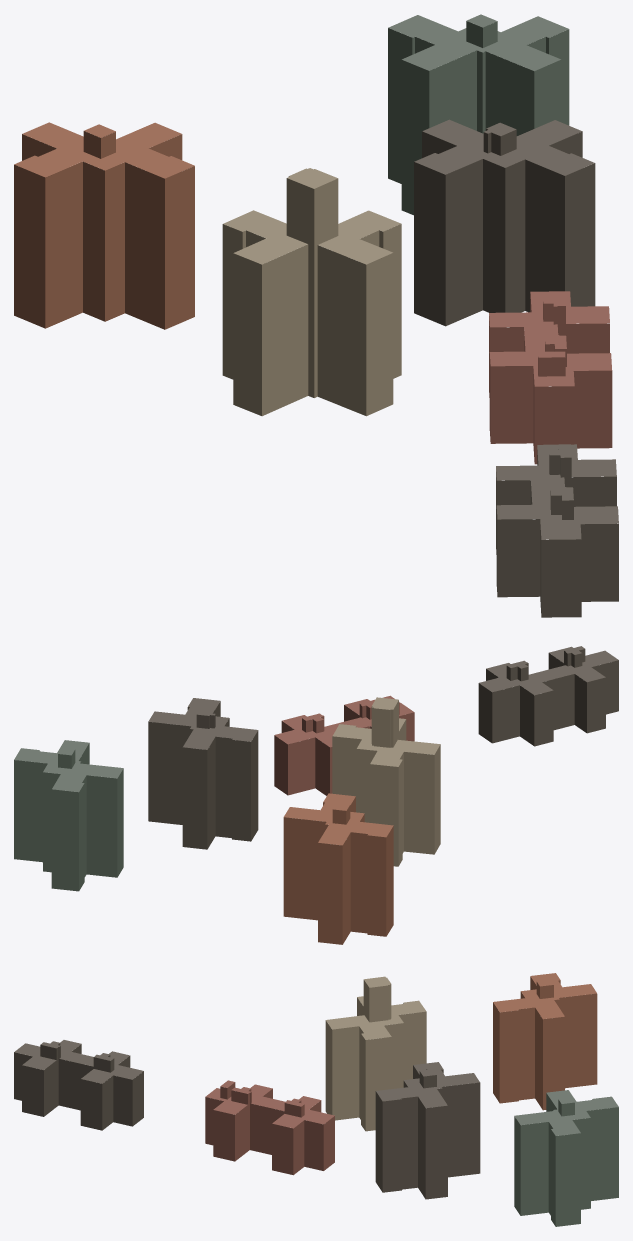
The model's file is tile-10_3.glb.
3 views of the same model, one above another, from view 1: azimuth 30°, elevation 25°; view 2: azimuth 150°, elevation 25°; view 3: azimuth 270°, elevation 25° (orthographic). The views are drawn at different scales.
Visible parts, largest first — view 1: wall, roof; view 2: wall, roof; view 3: wall, roof.
Boxes of the visible parts, <box> form: wall: <box>14,21,618,617</box>; roof: <box>14,14,618,539</box>; wall: <box>14,649,618,944</box>; roof: <box>14,646,618,845</box>; wall: <box>14,976,618,1226</box>; roof: <box>14,973,618,1135</box>.
Bounding box in the file's own units: 143 × 51.62 × 224.
